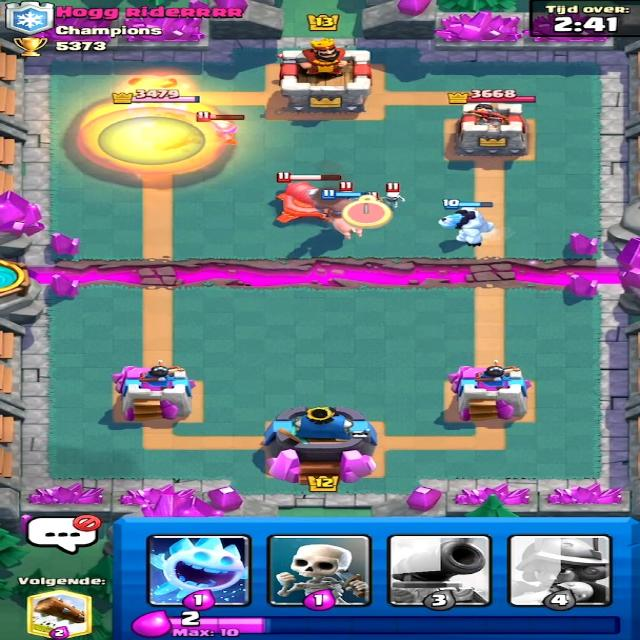Cannon_Card: (382, 534, 495, 610)
Enemy_Cannon_Troop: (274, 182, 339, 220)
Ice_Golem_Troop: (431, 204, 496, 248)
Ice_Spirit_Card: (145, 532, 250, 608)
Musketeer_Card: (515, 535, 608, 606)
Skeleton_Card: (264, 533, 376, 615)
